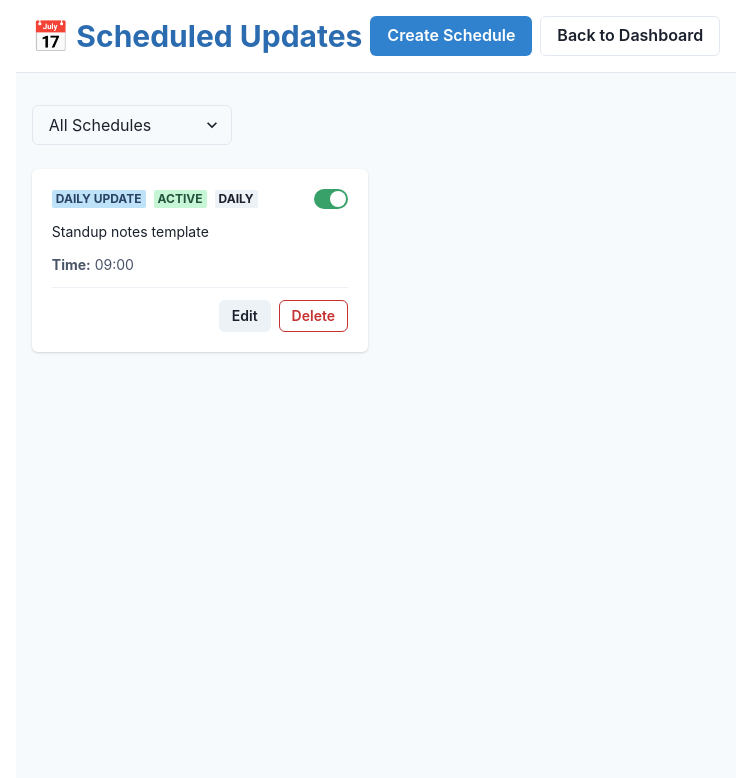
Test case: Schedules page › toggles a schedule active state
The image size is (753, 778).
Expected: the text "Standup notes template" is shown, [52,221,209,242]
Click the checkbox.
click(331, 199)  # box [314,189,348,209]
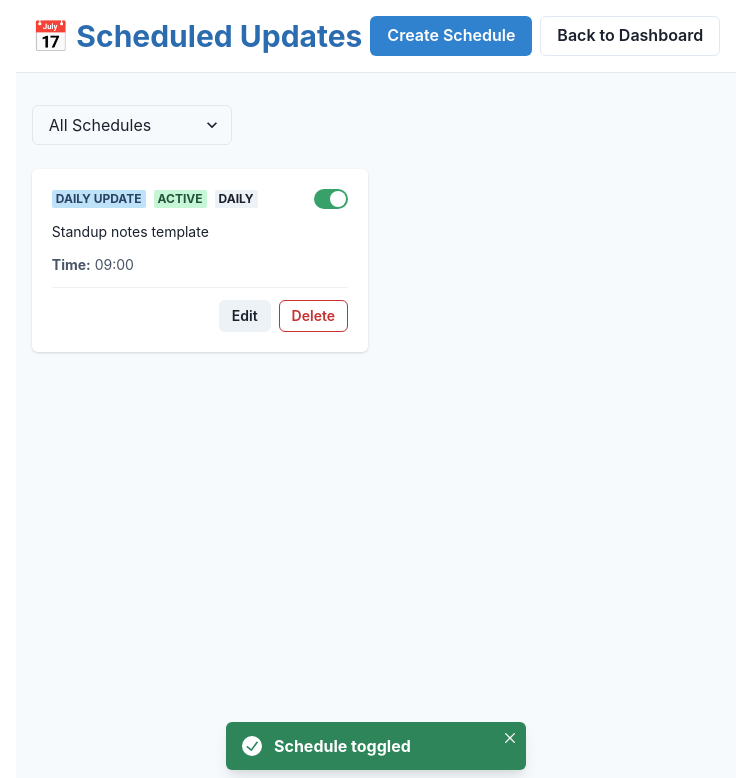
Now the text "Schedule toggled" is shown, box [274,736,411,756]
